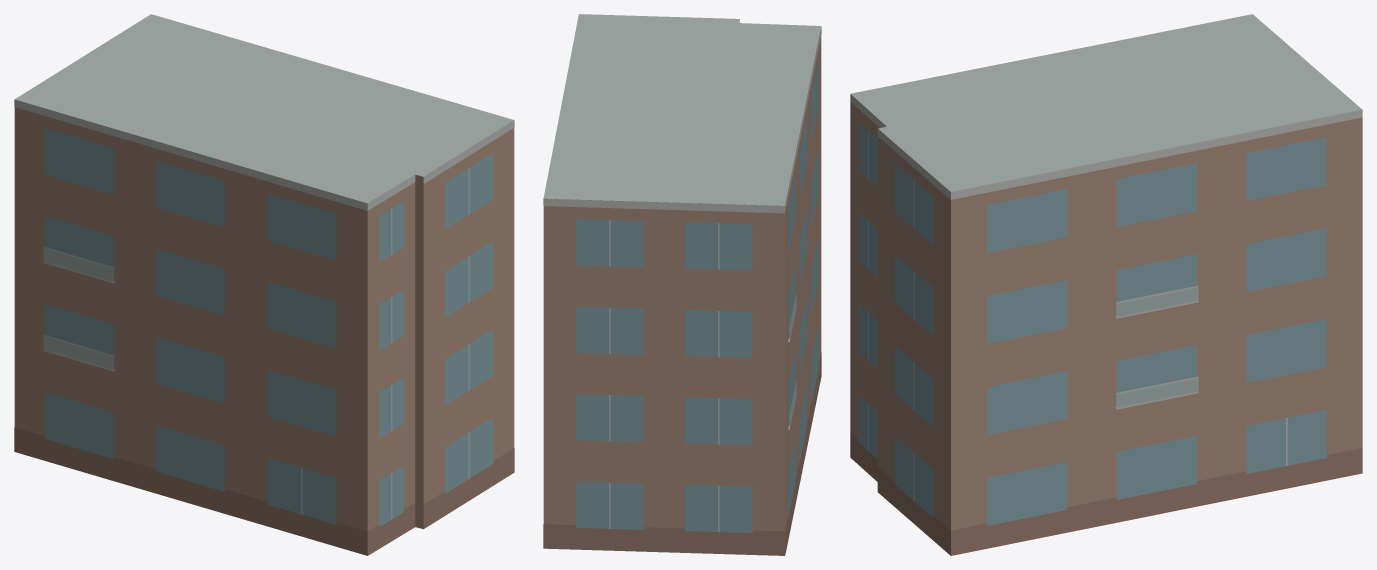
Rendered from survey-upis-32746455.glb.
3 views of the same model, side by side, from view 1: azimuth 30°, elevation 25°; view 2: azimuth 150°, elevation 25°; view 3: azimuth 270°, elevation 25° (orthographic). The views are drawn at different scales.
Parts seen in each view (by area): view 1: survey-upis-32746455.tmp; view 2: survey-upis-32746455.tmp; view 3: survey-upis-32746455.tmp.
Part boxes in pixels (x1,y1,x2,y2): survey-upis-32746455.tmp: (14, 14, 514, 555); survey-upis-32746455.tmp: (543, 14, 821, 555); survey-upis-32746455.tmp: (850, 14, 1362, 555).
Bounding box in the file's own units: 12.09 × 11.5 × 14.69.
